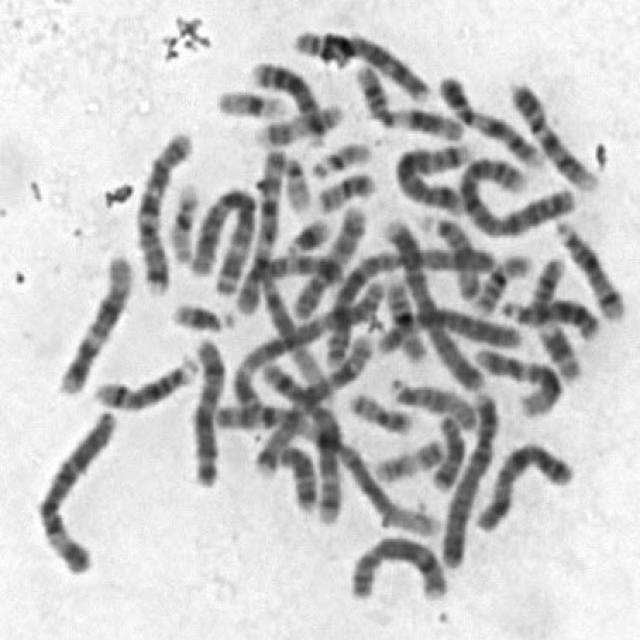A1: (204, 390, 446, 541), (249, 142, 337, 396)
A2: (313, 236, 493, 375), (454, 148, 575, 240)
A3: (225, 268, 388, 416), (185, 178, 259, 300)
B4: (374, 212, 485, 396), (433, 384, 500, 571)
B5: (255, 354, 347, 525), (391, 134, 476, 215)
C10: (285, 198, 371, 322), (228, 247, 348, 316)
C11: (351, 57, 469, 143), (524, 250, 584, 384)
C12: (52, 245, 138, 398), (470, 339, 566, 417)
C6: (27, 399, 121, 578), (370, 298, 528, 356)
C7: (248, 332, 374, 481), (128, 122, 198, 295)
C8: (286, 21, 436, 105), (340, 527, 450, 605)
C9: (503, 74, 601, 193), (434, 68, 547, 168)
D13: (243, 53, 327, 149), (496, 289, 604, 342)
D14: (548, 214, 628, 324), (88, 348, 202, 412)
D15: (415, 205, 482, 302), (382, 369, 481, 432)
E16: (375, 268, 431, 363), (468, 247, 536, 316)
E17: (248, 95, 345, 147), (366, 431, 448, 485)
E18: (271, 438, 320, 514), (426, 407, 468, 494)
F19: (163, 175, 204, 265), (210, 81, 289, 122)
F20: (341, 384, 415, 435), (310, 162, 379, 214)
G21: (165, 294, 237, 334), (279, 210, 334, 258)
G22: (306, 134, 373, 181), (276, 148, 313, 212)
X: (469, 434, 576, 534), (186, 330, 230, 489)
